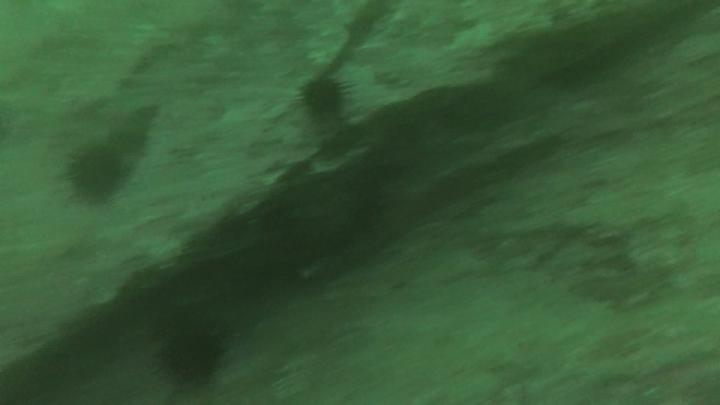echinus: (162, 333, 217, 384), (68, 148, 120, 200), (301, 78, 343, 115)
